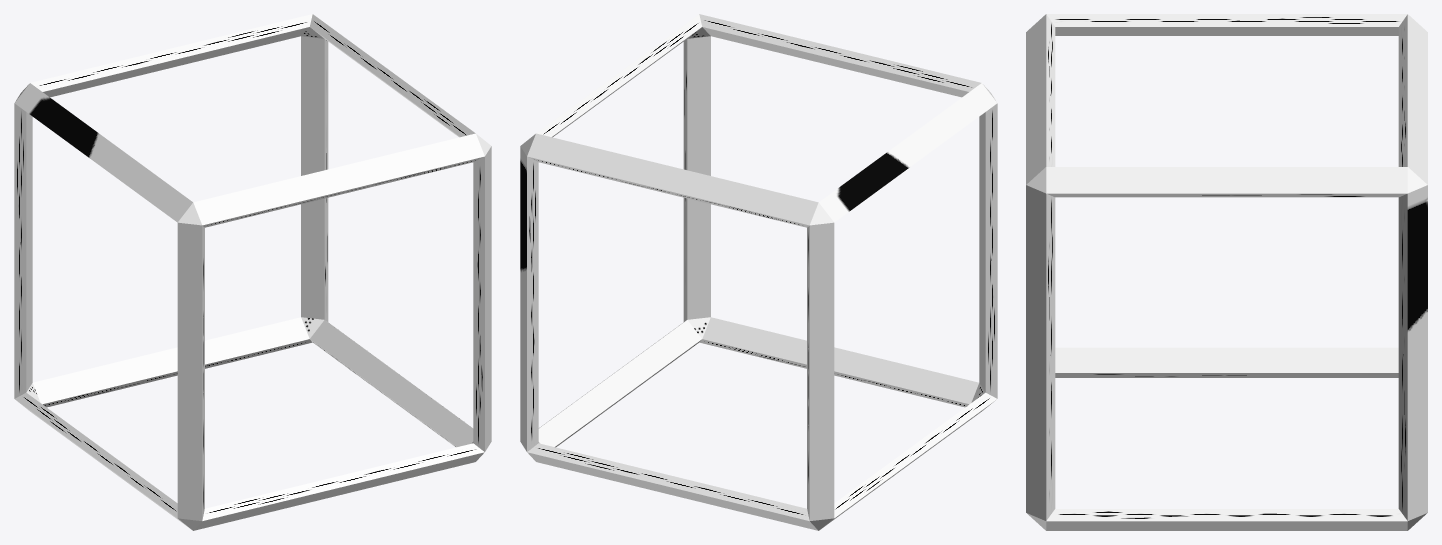
Rendered from Goal.obj.
3 views of the same model, side by side, from view 1: azimuth 30°, elevation 25°; view 2: azimuth 150°, elevation 25°; view 3: azimuth 270°, elevation 25° (orthographic). The views are drawn at different scales.
Parts seen in each view (by area): view 1: pCube1; view 2: pCube1; view 3: pCube1.
Boxes of the visible parts, x1,y1,x2,y2 form: pCube1: (14, 14, 491, 530); pCube1: (520, 14, 997, 530); pCube1: (1026, 14, 1427, 530).
Size of the model in its own units: 9.23 by 9.23 by 9.23.
